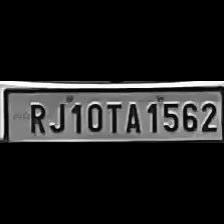0: (82, 100, 104, 134)
1: (68, 100, 84, 134), (143, 100, 159, 134)
2: (197, 100, 217, 132)
5: (159, 100, 179, 132)
6: (178, 99, 198, 133)
A: (122, 100, 142, 134)
J: (46, 100, 68, 134)
R: (25, 100, 48, 136)
T: (104, 99, 122, 133)
